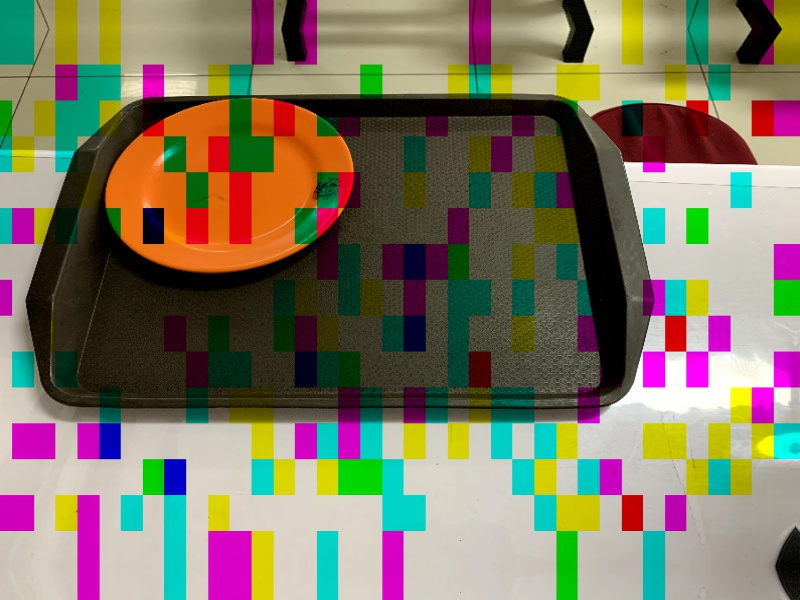dish10: (97, 95, 359, 278)
